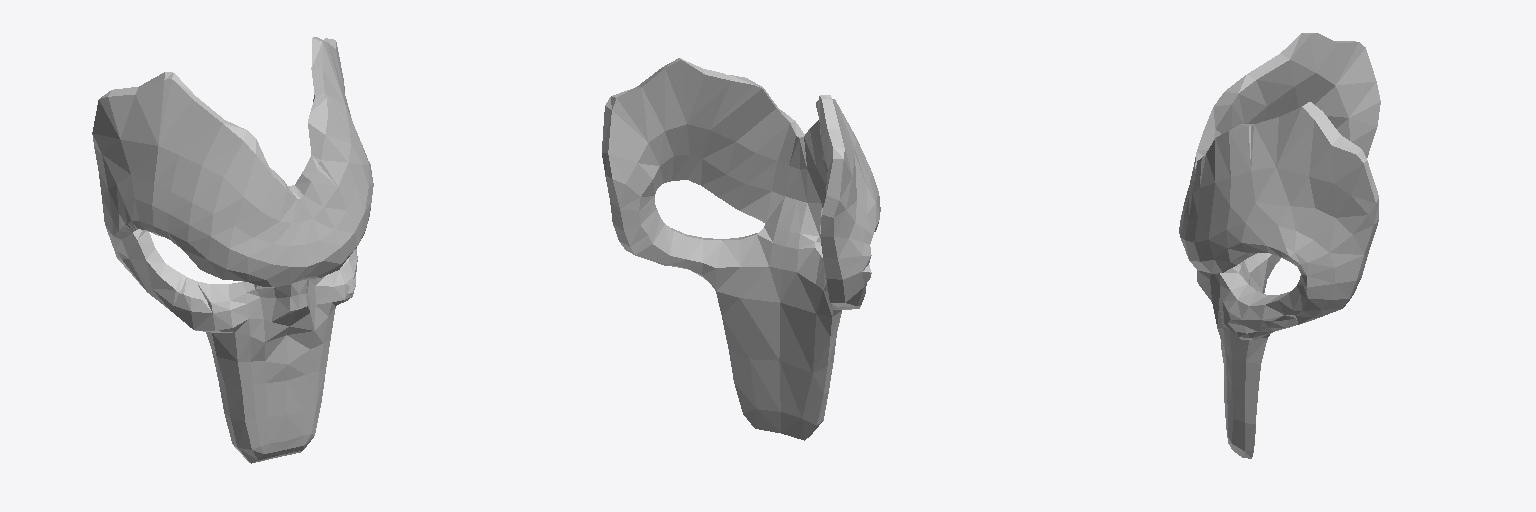
File: mask.obj
3 views of the same model, side by side, from view 1: azimuth 30°, elevation 25°; view 2: azimuth 150°, elevation 25°; view 3: azimuth 270°, elevation 25° (orthographic).
Visible parts, largest first — view 1: Group16913; view 2: Group16913; view 3: Group16913.
Part boxes in pixels (bbox=[...]): Group16913: bbox=[92, 37, 373, 463]; Group16913: bbox=[602, 58, 880, 440]; Group16913: bbox=[1179, 33, 1380, 458].
Bounding box in the file's own units: 0.6702 × 0.9946 × 0.4796.